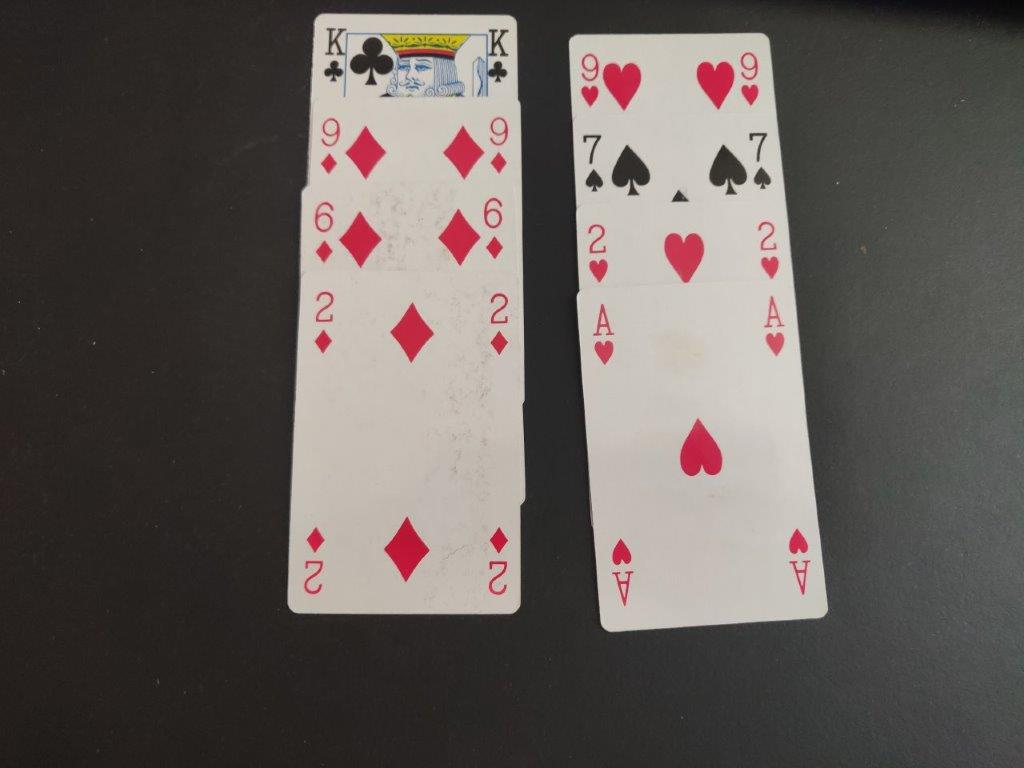2D: (484, 287, 512, 363), (309, 287, 338, 356)
2H: (581, 220, 611, 293), (750, 216, 784, 279)
6D: (478, 192, 509, 264), (309, 197, 338, 264)
7S: (576, 129, 609, 195), (743, 126, 775, 194)
9D: (485, 109, 513, 179), (315, 115, 344, 178)
9H: (574, 50, 604, 114), (736, 48, 762, 110)
AH: (758, 289, 791, 357), (588, 296, 616, 374)
KC: (321, 20, 349, 87), (485, 20, 511, 87)
